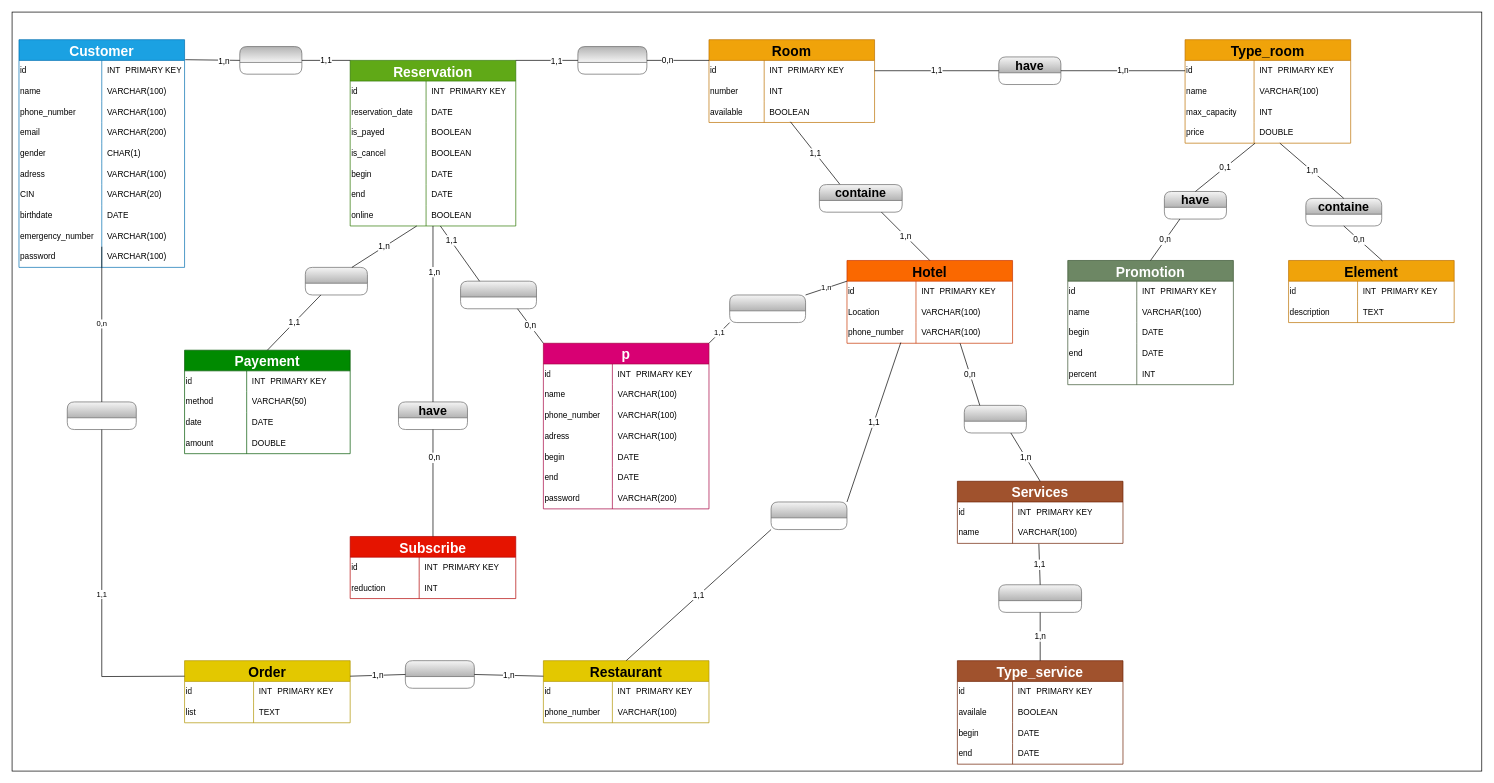
The diagram is 1494 pixels wide and 783 high, and some of its shapes have lost their labels. Each missing label, with the centre of its shape:
"associate" goes at pixel 612 60.
"belong" goes at pixel 808 515.
"command" goes at pixel 101 415.
"get" goes at pixel 439 674.
"has" goes at pixel 1040 598.
"make" goes at pixel 270 60.
"offer" goes at pixel 995 419.
"paye" goes at pixel 336 281.
"receive" goes at pixel 498 294.
"work" goes at pixel 767 308.
